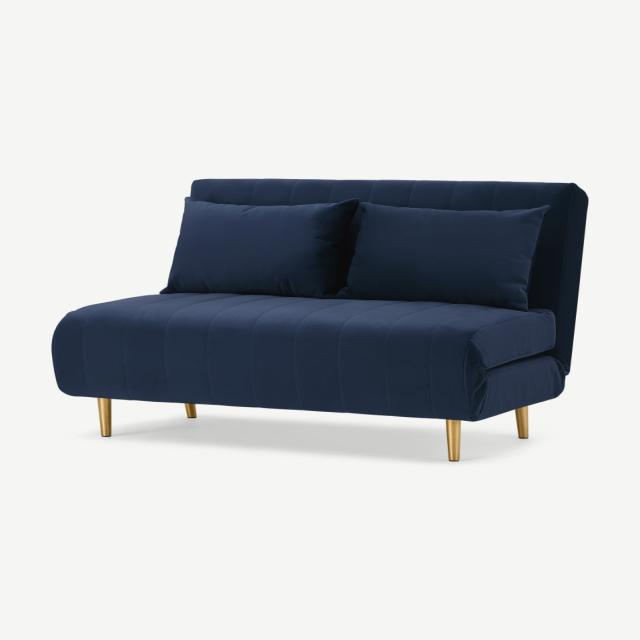Soffa: (47, 163, 596, 463)
